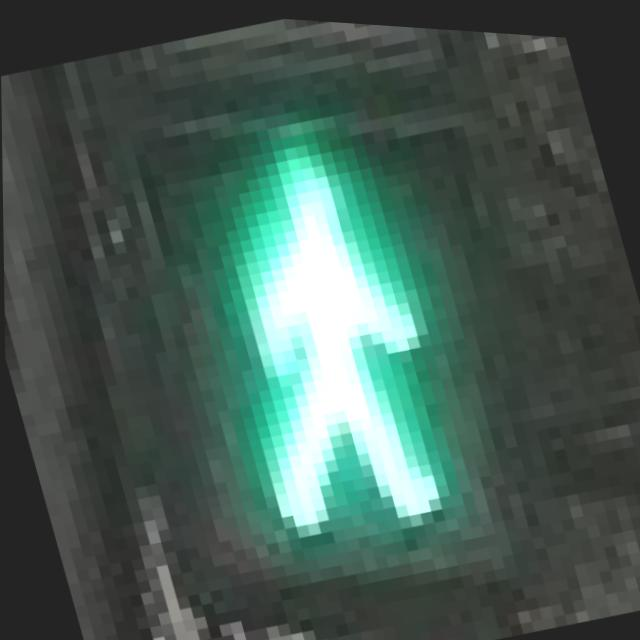green_light: (110, 63, 591, 635)
